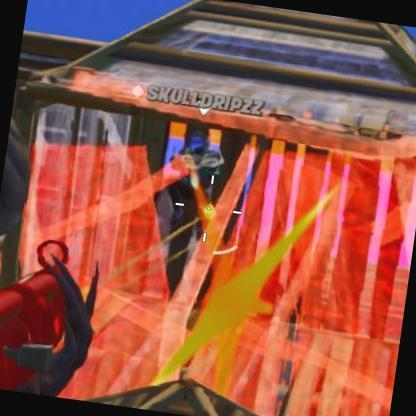person: (152, 133, 238, 320)
